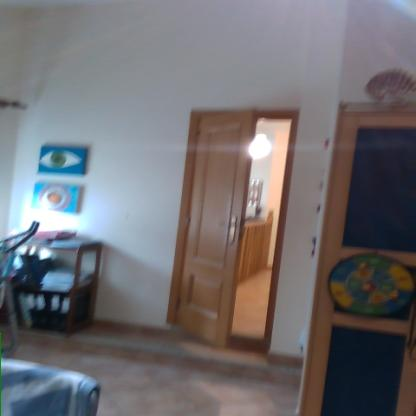semi: (178, 87, 309, 368)
